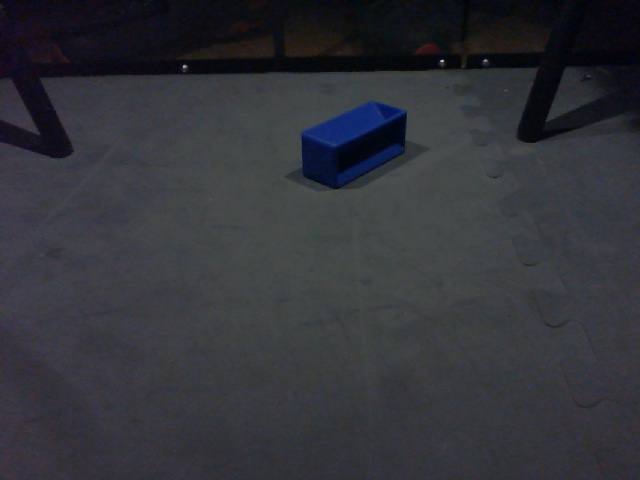BlueSample: (298, 97, 409, 192)
